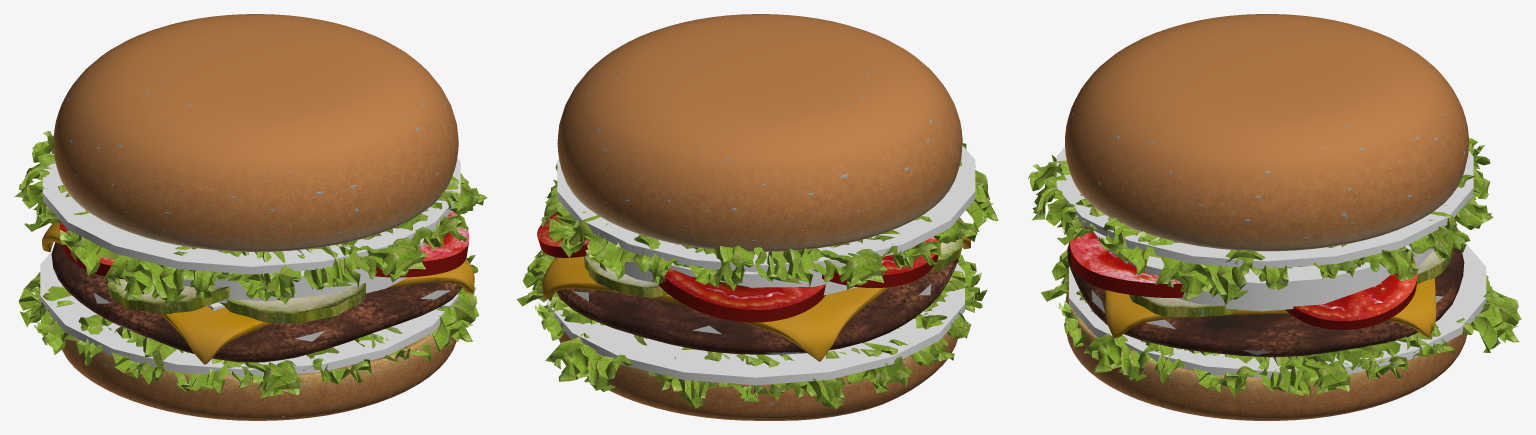
The model's file is 002_burger_v2.FBX.
3 renders of one model, left to right at view 1: azimuth 30°, elevation 25°; view 2: azimuth 150°, elevation 25°; view 3: azimuth 270°, elevation 25°, orthographic.
Parts seen in each view (by area): view 1: bread top, salad1, bread bottom, beef, salad2, salad1_c, salad2_c, vegetables, cheese, salad1back, salad2_back, vegetables2 (+1 smaller); view 2: bread top, salad2, salad1, beef, salad2_c, bread bottom, salad1_c, vegetables2, cheese, salad1back, salad2_back, vegetables (+1 smaller); view 3: bread top, salad1, salad2, bread bottom, beef, vegetables2, salad1_c, salad2_c, vegetables_c, salad1back, salad2_back, cheese (+1 smaller).
Part boxes in pixels (bbox=[...]): bread top: bbox=[53, 14, 458, 251]; salad1: bbox=[14, 131, 486, 307]; bread bottom: bbox=[62, 329, 456, 420]; beef: bbox=[51, 242, 462, 362]; salad2: bbox=[18, 254, 479, 398]; salad1_c: bbox=[42, 151, 460, 274]; salad2_c: bbox=[40, 250, 458, 377]; vegetables: bbox=[108, 226, 468, 323]; cheese: bbox=[42, 222, 474, 364]; salad1back: bbox=[15, 132, 487, 305]; salad2_back: bbox=[20, 255, 477, 397]; vegetables2: bbox=[59, 211, 469, 279]; bread top: bbox=[557, 14, 962, 251]; salad2: bbox=[516, 250, 987, 409]; salad1: bbox=[541, 143, 998, 290]; beef: bbox=[554, 257, 958, 354]; salad2_c: bbox=[547, 263, 964, 385]; bread bottom: bbox=[559, 331, 957, 420]; salad1_c: bbox=[557, 145, 975, 272]; vegetables2: bbox=[537, 212, 941, 322]; cheese: bbox=[542, 235, 970, 361]; salad1back: bbox=[542, 143, 997, 288]; salad2_back: bbox=[518, 250, 986, 408]; vegetables: bbox=[584, 217, 963, 297]; bread top: bbox=[1065, 14, 1468, 251]; salad1: bbox=[1027, 138, 1493, 304]; salad2: bbox=[1041, 250, 1521, 399]; bread bottom: bbox=[1065, 287, 1466, 420]; beef: bbox=[1067, 242, 1464, 357]; vegetables2: bbox=[1070, 221, 1455, 329]; salad1_c: bbox=[1056, 147, 1473, 268]; salad2_c: bbox=[1069, 242, 1486, 378]; vegetables_c: bbox=[1093, 231, 1433, 311]; salad1back: bbox=[1030, 138, 1490, 303]; salad2_back: bbox=[1041, 252, 1519, 395]; cheese: bbox=[1105, 278, 1436, 338].
Bounding box in the file's own units: 39.12 × 40.68 × 25.4.
